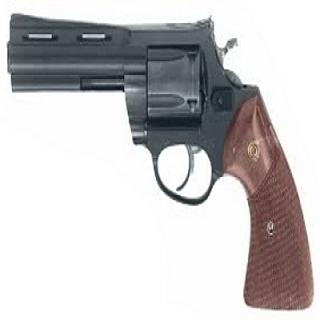gun: (4, 4, 315, 306)
